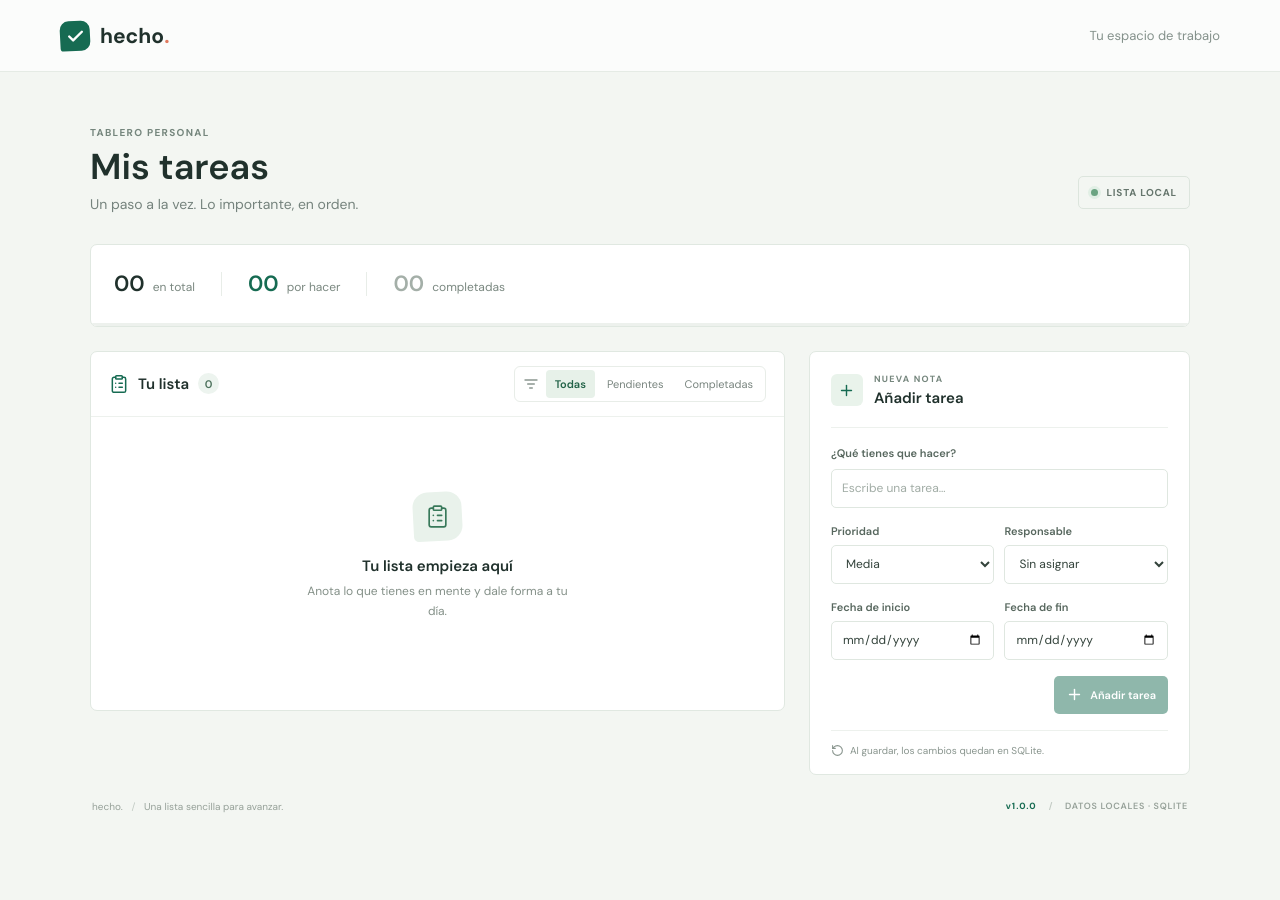
tablero de tareas › rechaza fechas inválidas en el formulario
Expected: the heading "Tu lista empieza aquí" is shown, [362,556,513,576]
Type "Tarea" into the field labelled "¿Qué tienes que hacer?".
click(999, 488); type("Tarea")  # box [831,469,1168,508]
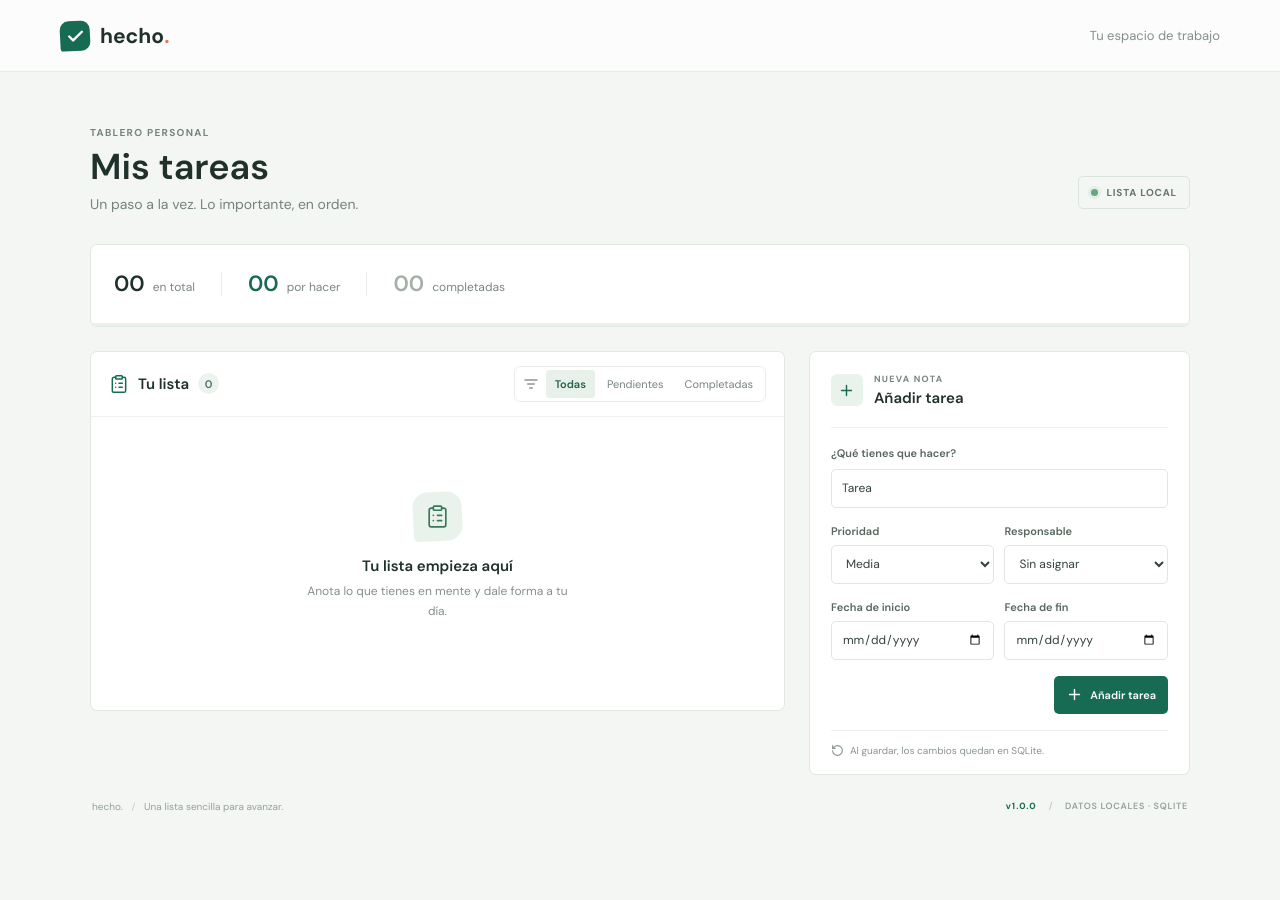
Type "2026-10-01" into the date field labelled "Fecha de fin".
click(1086, 640); type("2026-10-01")  # box [1004,621,1168,660]
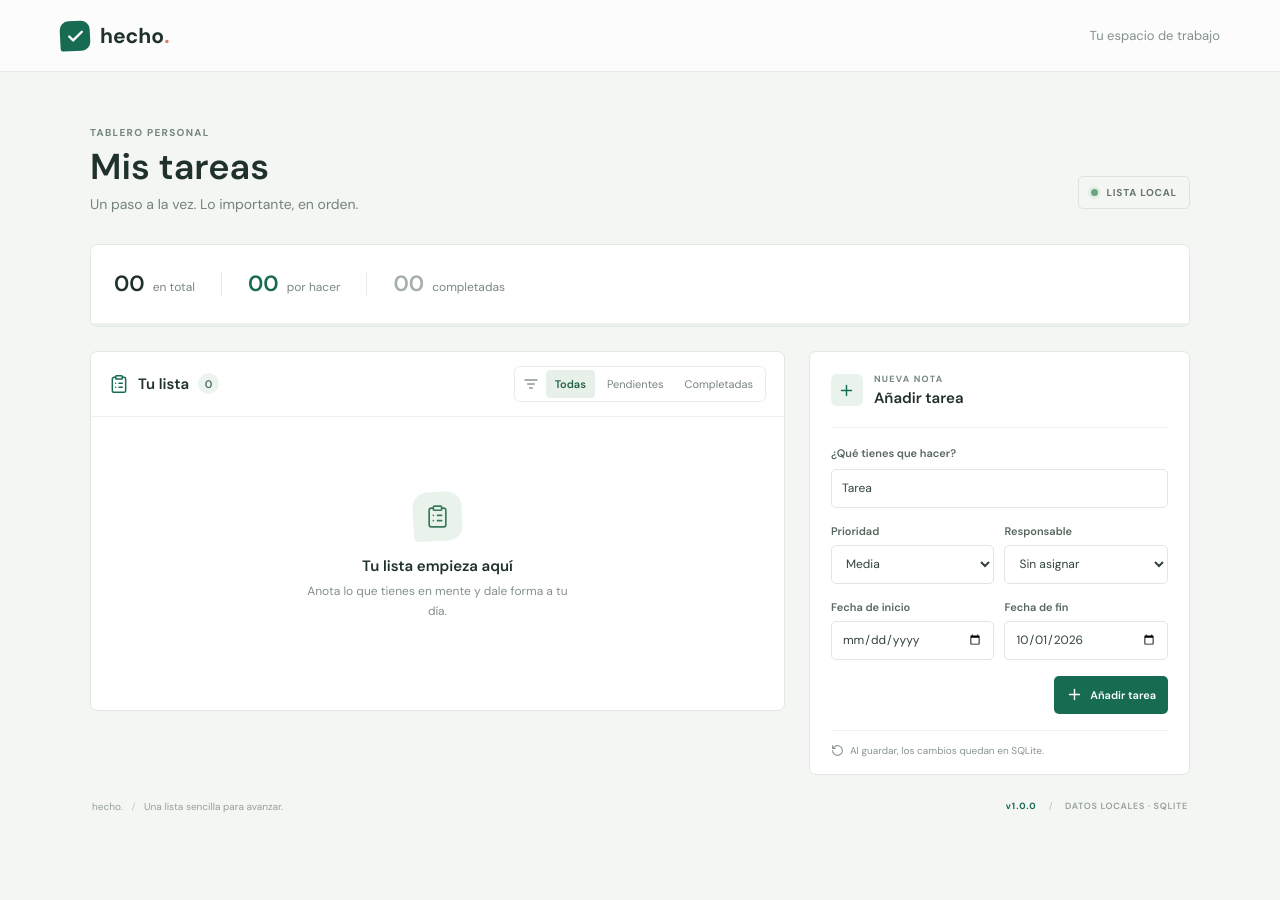
Click the button "Añadir tarea".
click(1111, 695)  # box [1054,676,1168,714]
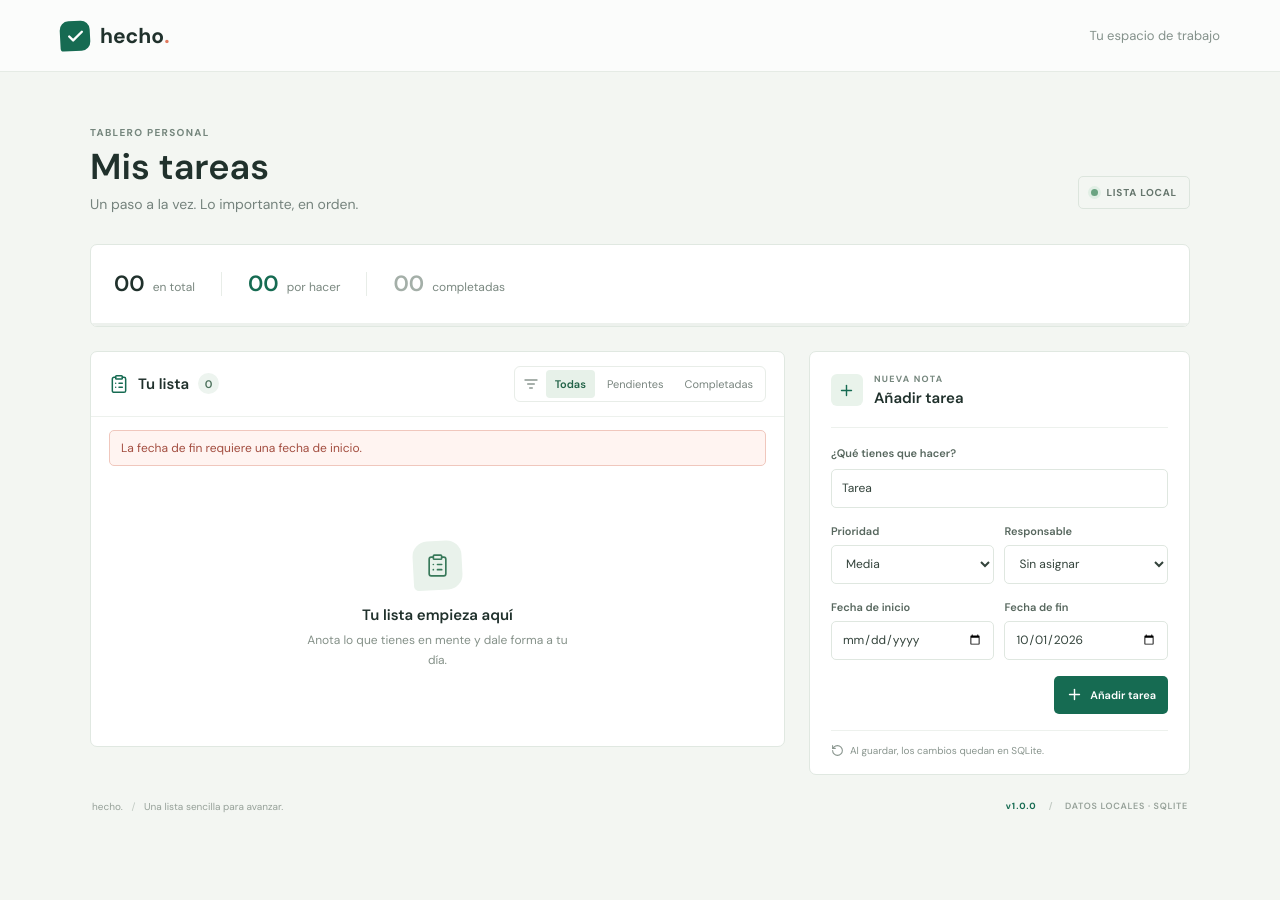
Expected: the message shows "requiere una fecha de inicio", [121,440,362,456]
